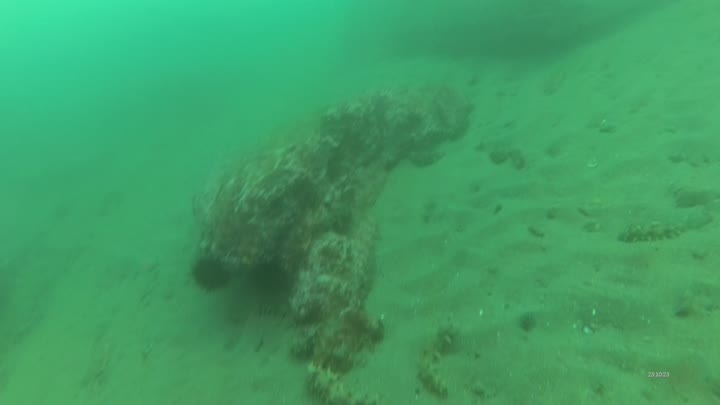echinus: (252, 259, 293, 297), (192, 259, 233, 296)
holothurian: (416, 320, 464, 399), (615, 221, 693, 245)
